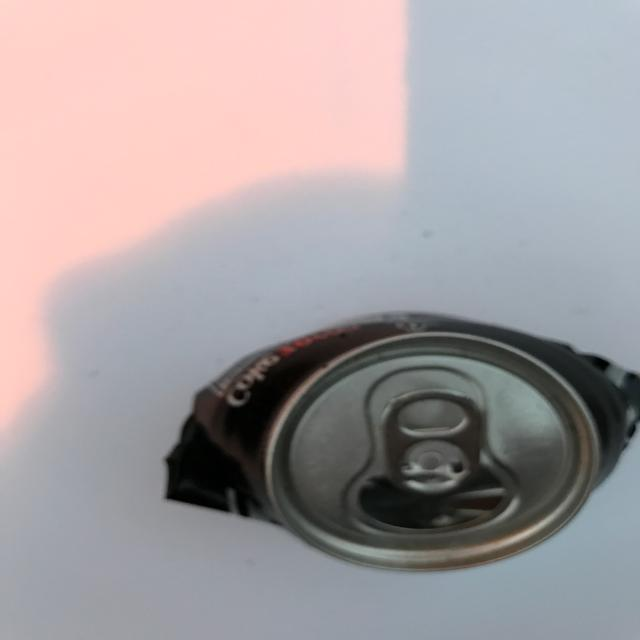metal: (163, 309, 639, 573)
